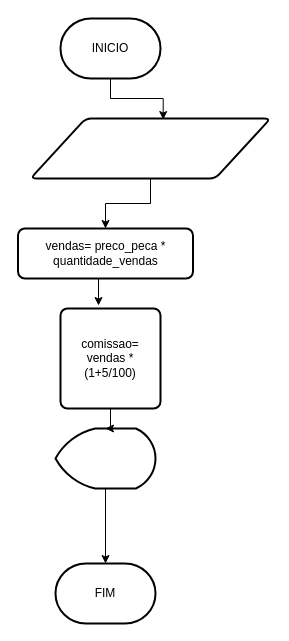
Some shapes in this 289 by 641 pixel diagram are drawn without their labels. The shapes that lost their labels are listed below. From the top down, each one's centre as x and y in pixels, then its label:
At (x=150, y=148): "preco_peca.quantidade_vendas".
At (x=105, y=458): "comissao".
